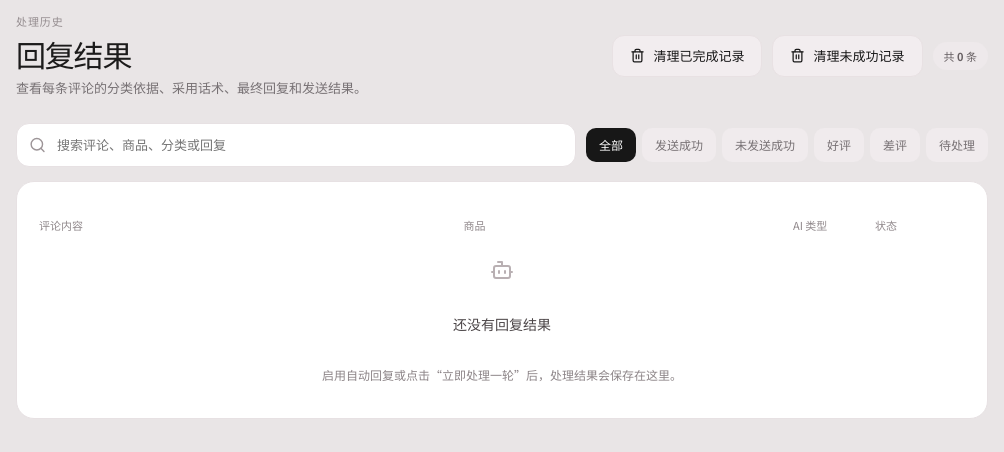
Test: 回复结果数据闭环 › lets the user safely clear completed reply history from the results page
What coordinates should you click on to do the following:
click the button "清理已完成记录"
I would click on:
 (688, 56)
Its box is top-left (612, 35), bottom-right (762, 77).
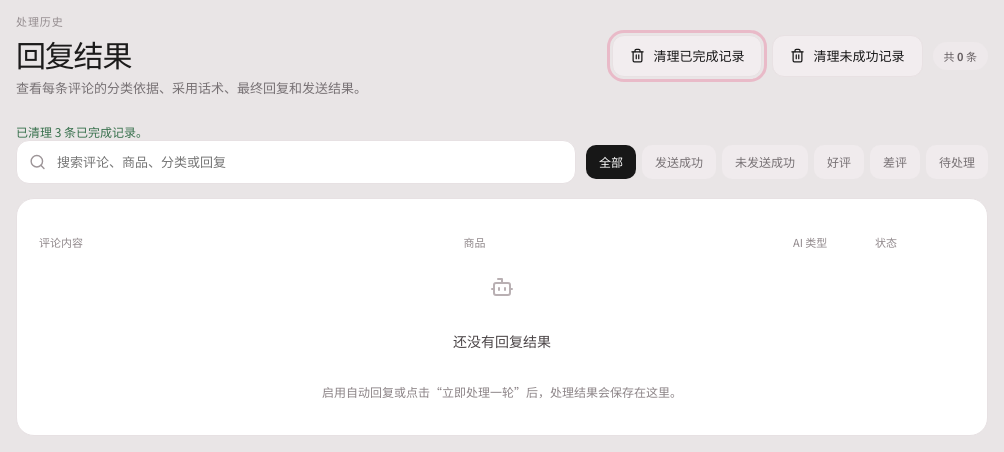
Now the text "已清理 3 条已完成记录。" is shown, box top-left (16, 123), bottom-right (148, 140)
